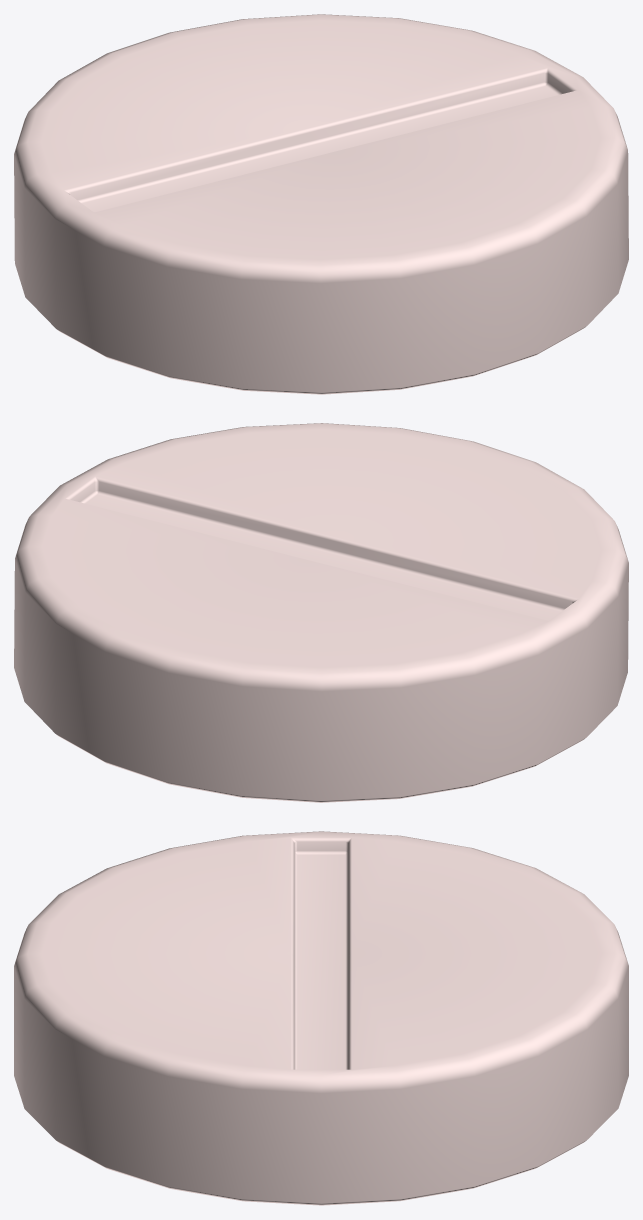
Rendered from Public_3_Pill_5.glb.
3 renders of one model, top to bottom at view 1: azimuth 30°, elevation 25°; view 2: azimuth 150°, elevation 25°; view 3: azimuth 270°, elevation 25°, orthographic.
Visible parts, largest first — view 1: Public_3_Pill_5; view 2: Public_3_Pill_5; view 3: Public_3_Pill_5.
Boxes of the visible parts, box(x1,y1,x2,y2) form: Public_3_Pill_5: box(14, 14, 628, 394); Public_3_Pill_5: box(14, 423, 628, 802); Public_3_Pill_5: box(14, 831, 628, 1205).
Bounding box in the file's own units: 1.37 × 0.3212 × 1.37.
Materials: 1 (1 with a texture image).
